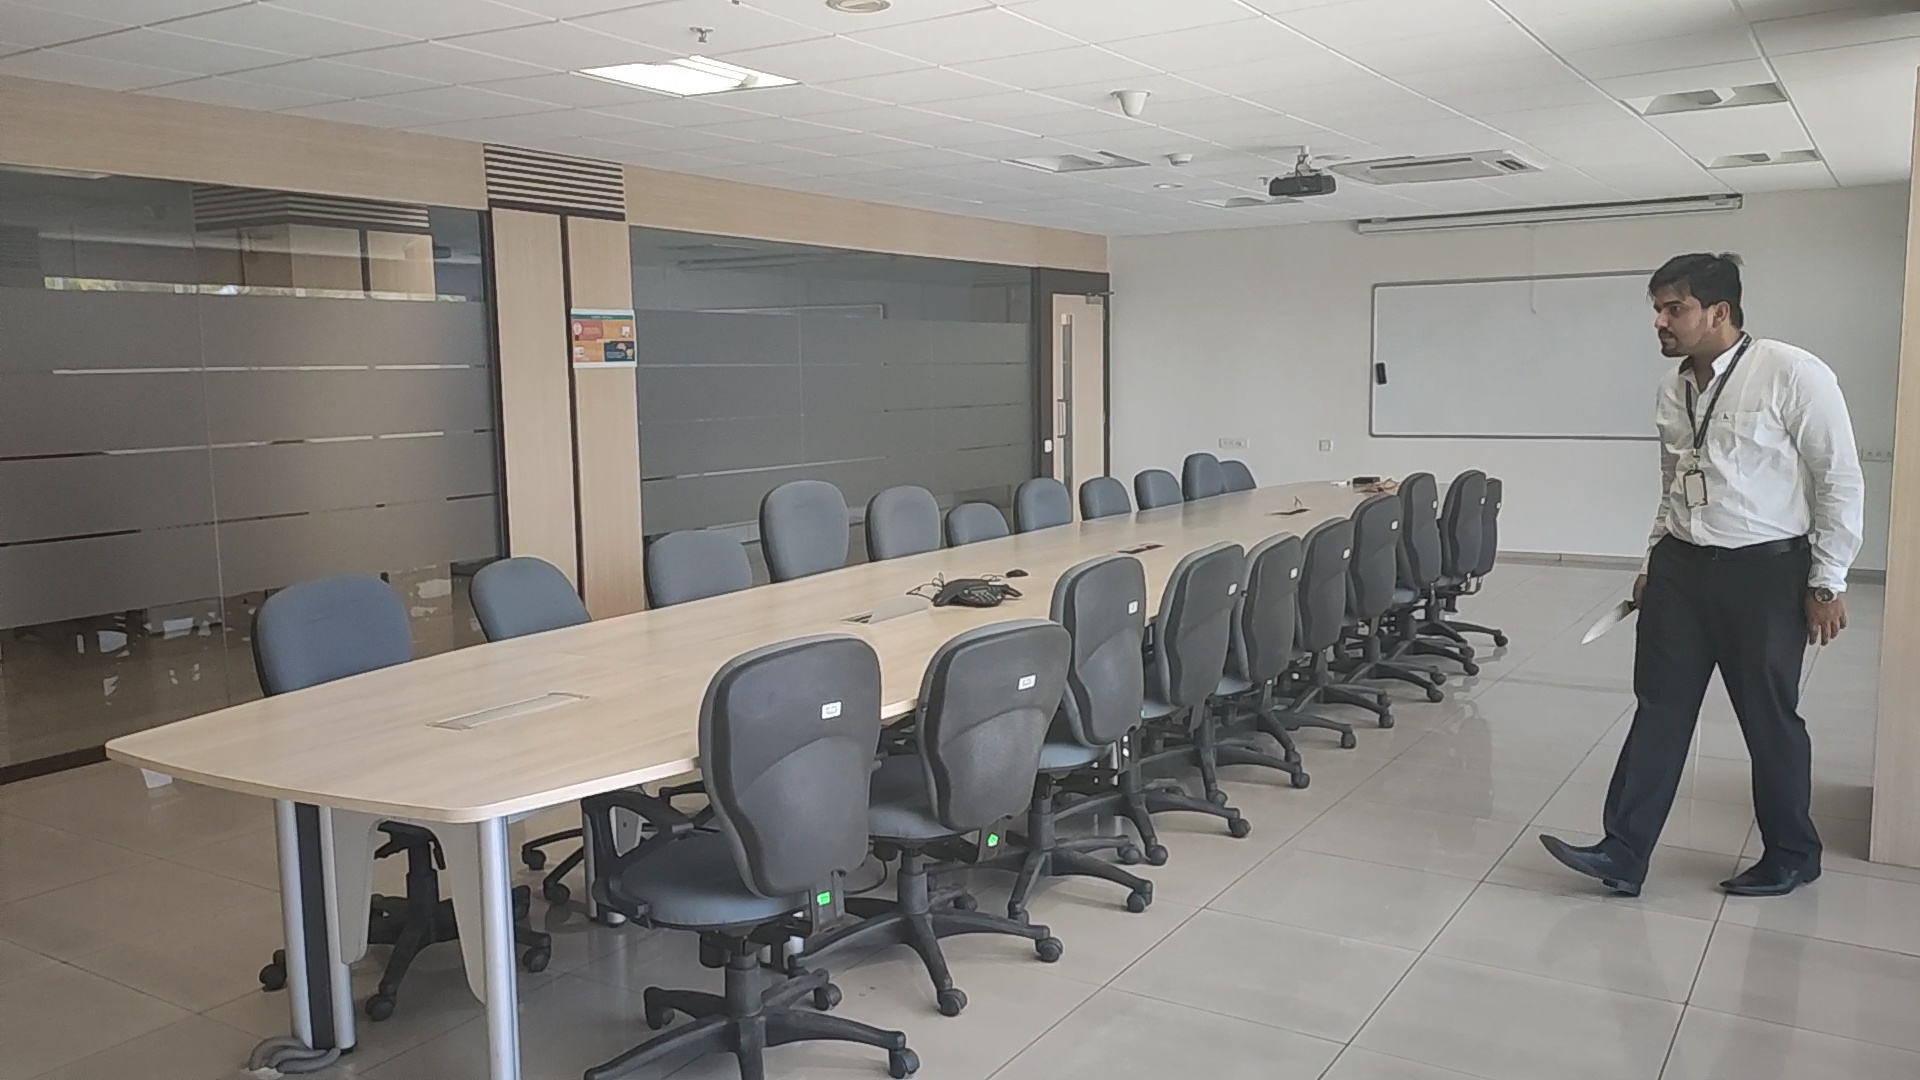knife: (1578, 599, 1633, 645)
